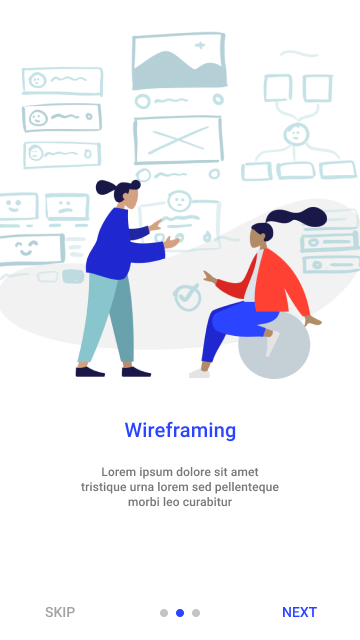Image: (1, 32, 360, 380)
PageIndicator: (159, 608, 201, 618)
Text: (81, 466, 280, 507), (125, 421, 236, 442), (282, 606, 318, 618), (45, 606, 77, 618)
